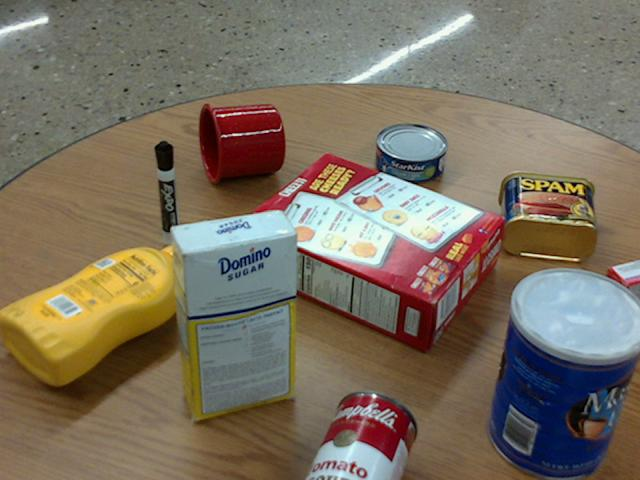cracker_box: (240, 153, 501, 346)
gelatin_box: (591, 258, 639, 339)
large_marker: (155, 141, 179, 244)
master_chef_can: (487, 268, 639, 479)
mug: (198, 103, 285, 183)
mustard_bottle: (0, 245, 198, 384)
potted_meat_can: (499, 169, 597, 261)
sugar_box: (170, 211, 295, 418)
tomato_soup_can: (306, 389, 417, 479)
tuna_fish_can: (376, 123, 447, 181)
